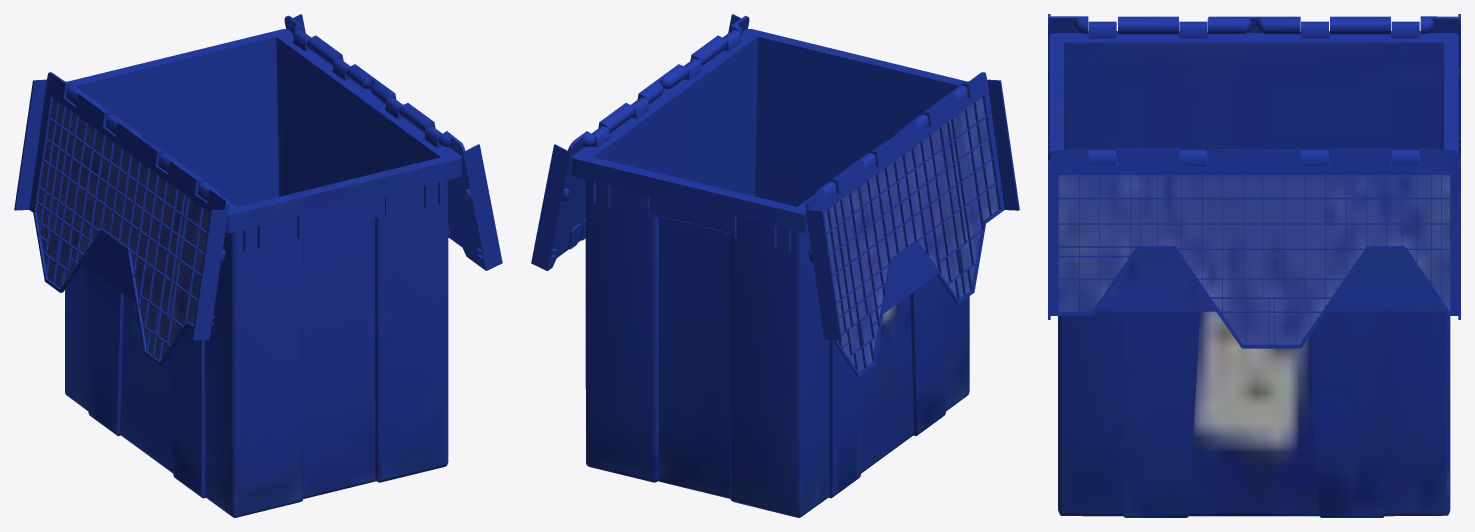
Rendered from ph-industrial-pastic-container.glb.
3 renders of one model, left to right at view 1: azimuth 30°, elevation 25°; view 2: azimuth 150°, elevation 25°; view 3: azimuth 270°, elevation 25°, orthographic. The views are drawn at different scales.
Parts seen in each view (by area): view 1: industrial_pastic_container; view 2: industrial_pastic_container; view 3: industrial_pastic_container.
Part boxes in pixels (x1,y1,x2,y2): industrial_pastic_container: (14, 14, 502, 517); industrial_pastic_container: (531, 14, 1019, 517); industrial_pastic_container: (1048, 14, 1460, 517).
Bounding box in the file's own units: 1 × 1 × 0.9998.
1 material, 1 textured.
